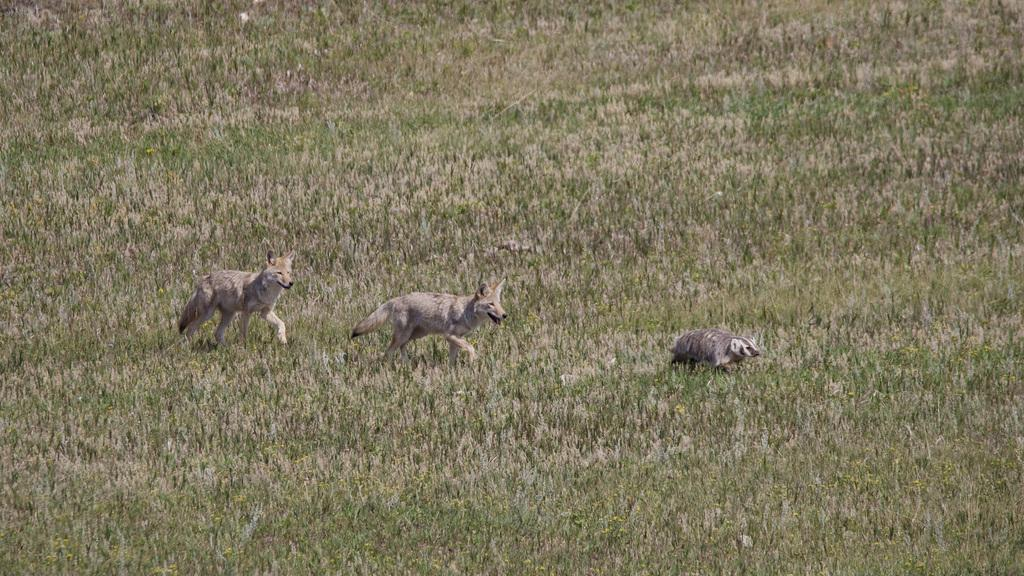Coyote: (351, 276, 512, 370), (174, 248, 300, 353)
